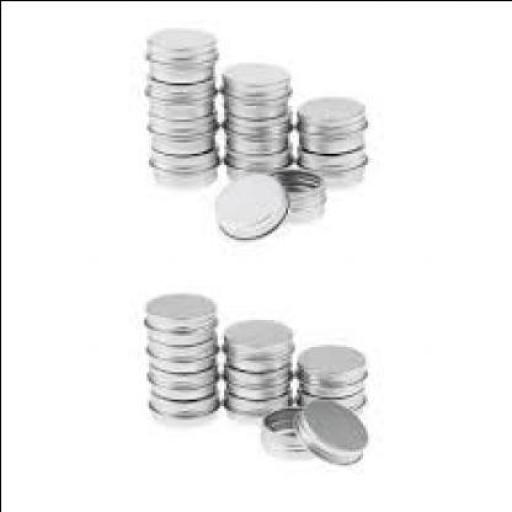metal: (209, 170, 287, 237), (293, 398, 364, 460), (293, 94, 364, 150), (216, 62, 289, 113), (293, 344, 364, 396), (218, 319, 289, 368), (141, 294, 212, 342), (143, 32, 214, 75), (141, 74, 216, 114), (267, 167, 323, 216), (220, 109, 290, 146), (143, 145, 216, 180), (293, 145, 364, 180), (258, 406, 307, 454), (293, 384, 362, 416), (145, 116, 214, 148), (220, 387, 287, 419), (223, 364, 289, 396), (144, 339, 214, 369), (145, 385, 214, 414), (220, 146, 287, 173), (146, 367, 211, 394)
